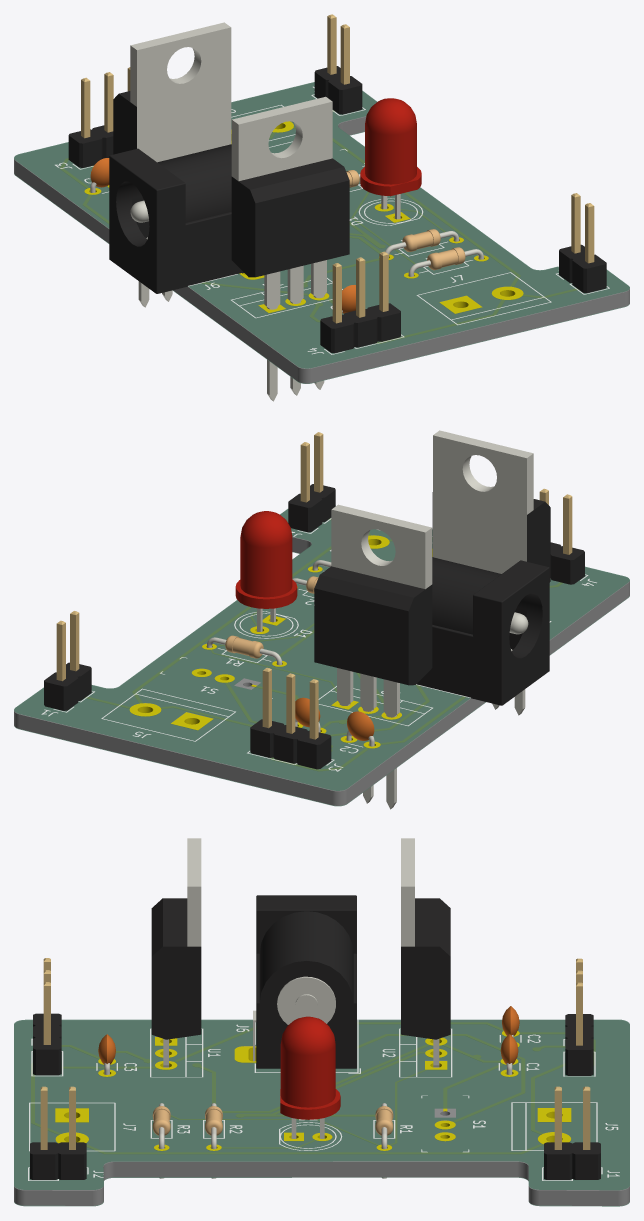
Rendered from 02.POWER_SUPPLY_BB.glb.
3 renders of one model, top to bottom at view 1: azimuth 30°, elevation 25°; view 2: azimuth 150°, elevation 25°; view 3: azimuth 270°, elevation 25°, orthographic. The views are drawn at different scales.
Parts seen in each view (by area): view 1: =>[0:1:1:12], =>[0:1:1:11], U1, J6, U2, D1, J4, =>[0:1:1:9], J2, J1, J3, =>[0:1:1:10] (+2 smaller); view 2: =>[0:1:1:12], =>[0:1:1:11], U2, J6, U1, D1, J3, =>[0:1:1:9], J1, J2, =>[0:1:1:10], J4 (+2 smaller); view 3: =>[0:1:1:11], =>[0:1:1:12], J6, U1, U2, =>[0:1:1:9], D1, =>[0:1:1:10], J1, J2, J4, J3 (+3 smaller).
Boxes of the visible parts, <box> form: =>[0:1:1:12]: <box>14,83,629,383</box>; =>[0:1:1:11]: <box>14,82,629,383</box>; U1: <box>231,96,349,401</box>; J6: <box>109,144,243,293</box>; U2: <box>113,22,231,307</box>; D1: <box>360,98,421,219</box>; J4: <box>320,251,400,353</box>; =>[0:1:1:9]: <box>60,121,575,342</box>; J2: <box>559,193,606,293</box>; J1: <box>314,14,362,114</box>; J3: <box>68,67,130,167</box>; =>[0:1:1:10]: <box>55,86,609,354</box>; =>[0:1:1:12]: <box>14,510,629,805</box>; =>[0:1:1:11]: <box>14,509,629,806</box>; U2: <box>314,504,432,809</box>; J6: <box>416,557,549,705</box>; U1: <box>432,430,550,715</box>; D1: <box>235,511,297,631</box>; J3: <box>250,667,331,769</box>; =>[0:1:1:9]: <box>88,533,561,770</box>; J1: <box>44,611,91,710</box>; J2: <box>288,432,335,532</box>; =>[0:1:1:10]: <box>41,518,596,771</box>; J4: <box>539,488,584,584</box>; =>[0:1:1:11]: <box>14,1019,629,1206</box>; =>[0:1:1:12]: <box>14,1020,629,1205</box>; J6: <box>253,895,356,1068</box>; U1: <box>151,838,201,1067</box>; U2: <box>401,838,450,1067</box>; =>[0:1:1:9]: <box>31,1023,594,1153</box>; D1: <box>280,1016,340,1138</box>; =>[0:1:1:10]: <box>28,1019,619,1180</box>; J1: <box>544,1086,600,1179</box>; J2: <box>30,1086,86,1179</box>; J4: <box>33,958,61,1075</box>; J3: <box>565,958,593,1075</box>.
Bounding box in the file's own units: 0.0395 × 0.0285 × 0.0551.
